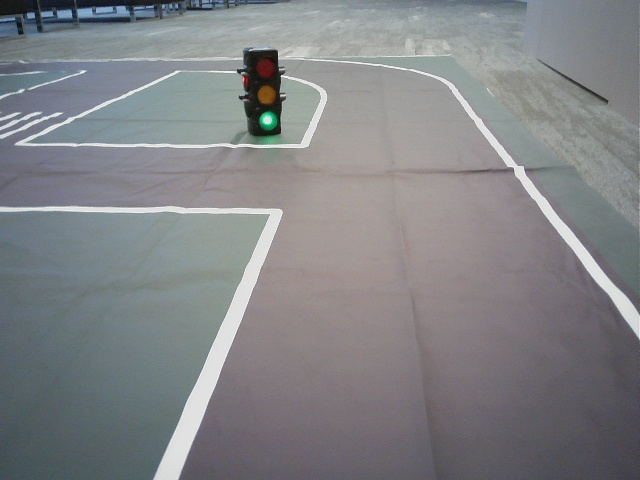green: (250, 54, 282, 130)
